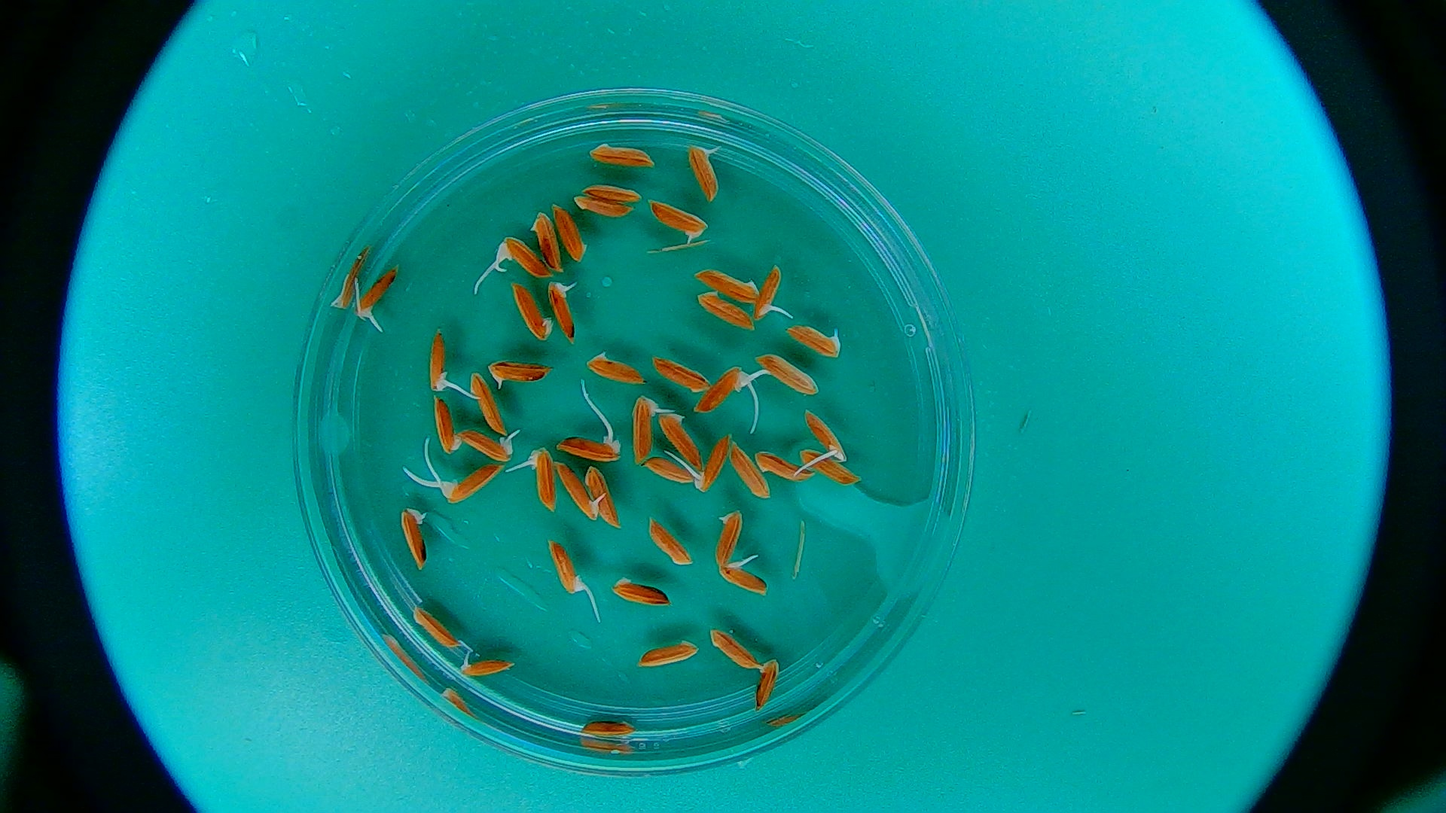no: (507, 281, 551, 343), (755, 352, 819, 394), (645, 514, 693, 568), (694, 288, 755, 330), (409, 603, 462, 650), (396, 505, 429, 577), (691, 265, 759, 299), (636, 635, 702, 670), (469, 373, 505, 437), (609, 574, 673, 610), (731, 442, 770, 501), (653, 353, 709, 393), (584, 463, 619, 527), (709, 626, 758, 671), (660, 413, 703, 464), (587, 139, 655, 169), (556, 202, 588, 264), (755, 446, 813, 480), (532, 214, 563, 271), (586, 354, 642, 384), (576, 714, 640, 740), (432, 397, 459, 456), (715, 504, 743, 560), (809, 454, 865, 482), (583, 181, 644, 202), (756, 660, 779, 711), (645, 461, 691, 486), (573, 199, 632, 217)
yes: (668, 428, 734, 493), (627, 392, 675, 464), (553, 461, 597, 518), (356, 267, 401, 322), (442, 464, 502, 504), (648, 199, 708, 238), (546, 538, 585, 598), (801, 408, 845, 461), (789, 323, 845, 361), (487, 358, 553, 390), (698, 367, 746, 411), (499, 236, 543, 282), (685, 141, 718, 200), (528, 447, 557, 513), (717, 562, 770, 598), (461, 429, 514, 464), (560, 434, 621, 463), (426, 332, 455, 391), (551, 282, 577, 342), (758, 266, 784, 322), (462, 653, 515, 678)
